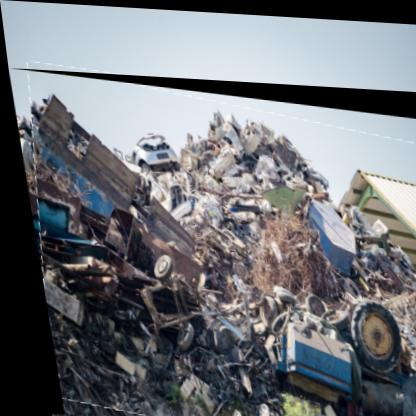Garbage: (7, 69, 416, 416)
